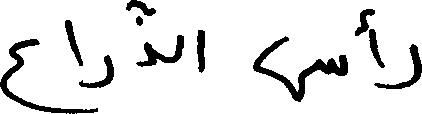X: (255, 31, 303, 106), (0, 34, 36, 113), (84, 50, 112, 113), (65, 15, 82, 113), (395, 39, 421, 93), (370, 4, 383, 92), (139, 0, 154, 71), (320, 50, 345, 80), (197, 25, 202, 77), (174, 30, 181, 67)
